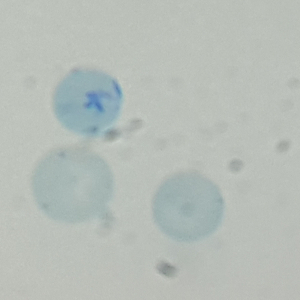aggregate reticulocyte: (49, 66, 126, 138)
erythrocyte: (149, 169, 227, 242)
punctate reticulocyte: (29, 143, 116, 227)
